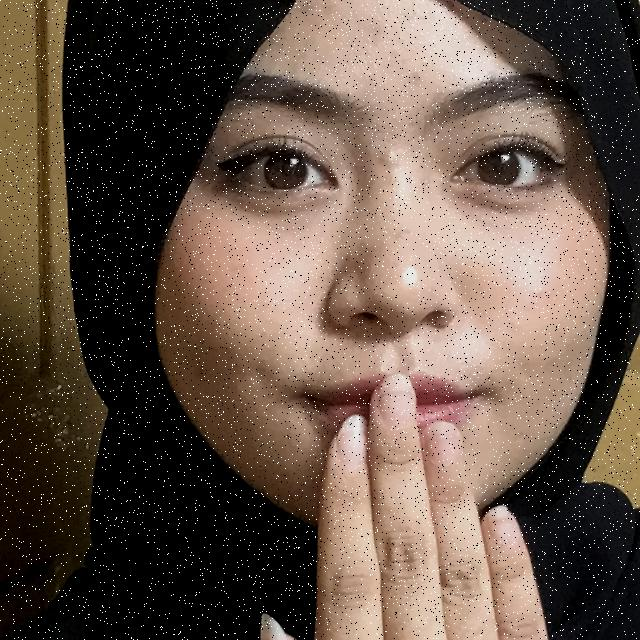ganteng: (140, 346, 640, 640)
